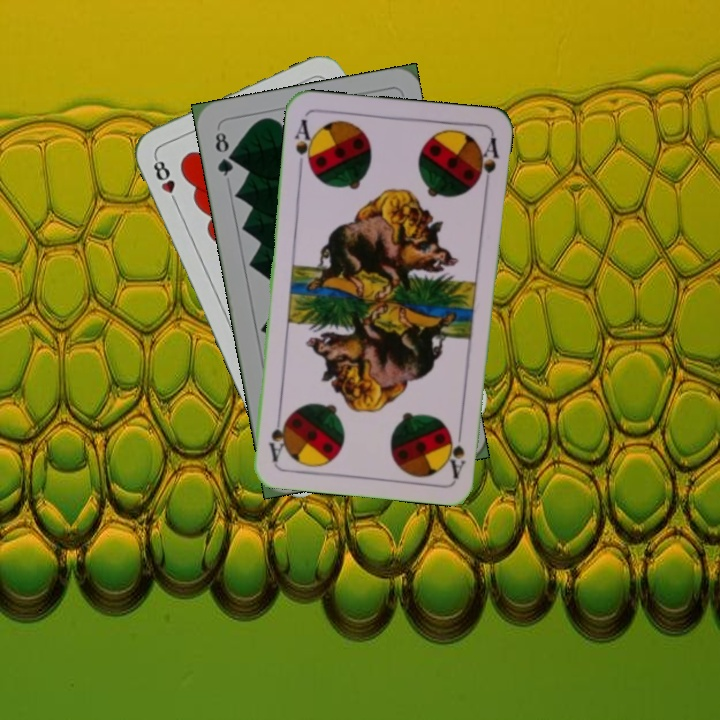G8: (211, 128, 237, 179)
H8: (149, 153, 181, 209)
SA: (291, 115, 317, 174), (445, 421, 468, 480)
